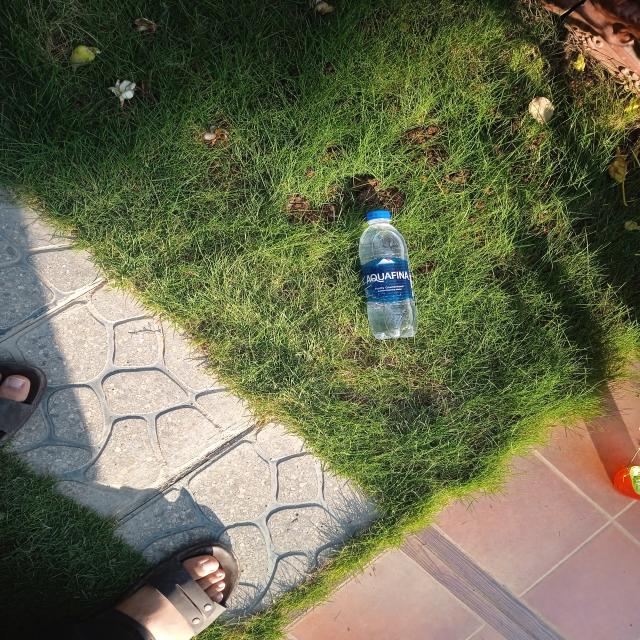Plastic: (350, 205, 422, 346)
